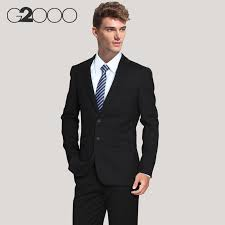F_M_suit jacket: (56, 51, 162, 191)
F_tie: (92, 63, 111, 113)
